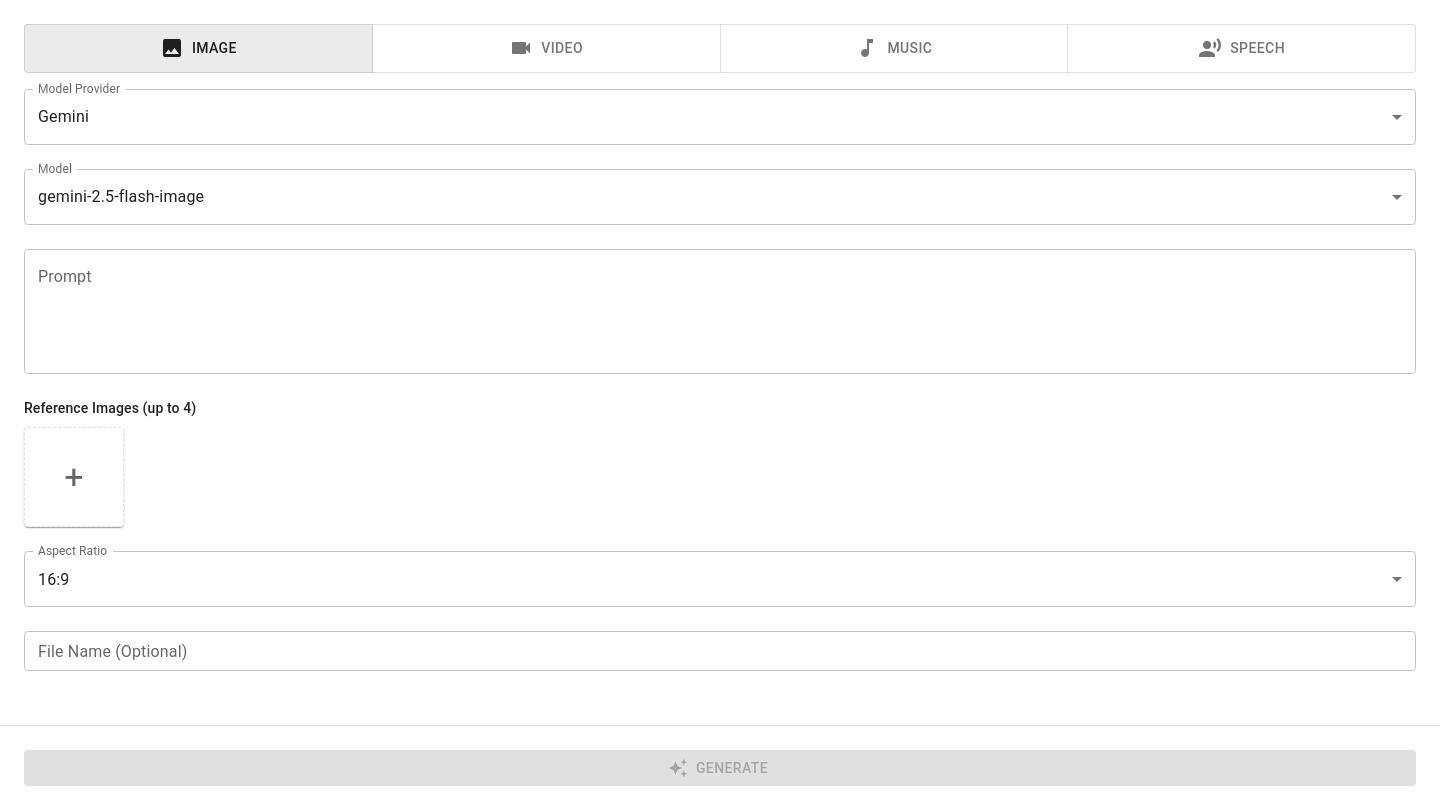
Test: GenerateInterface › should display an error message if generation fails
Step 1. Type "This will fail" into the text box labelled "Prompt" → (720, 311), box [38, 265, 1402, 357]
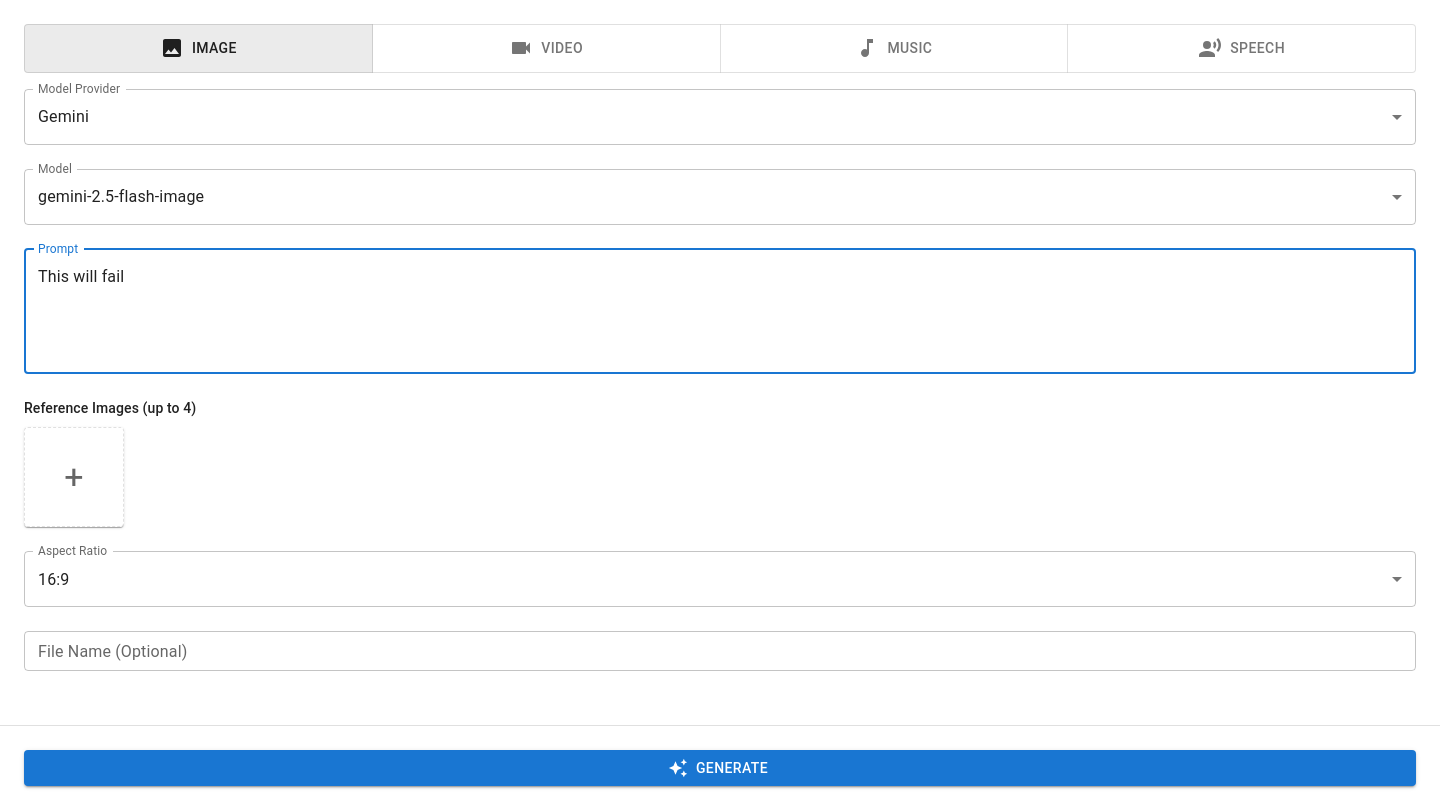
Step 2. Click the button "Generate" → (720, 768), box [24, 750, 1416, 786]
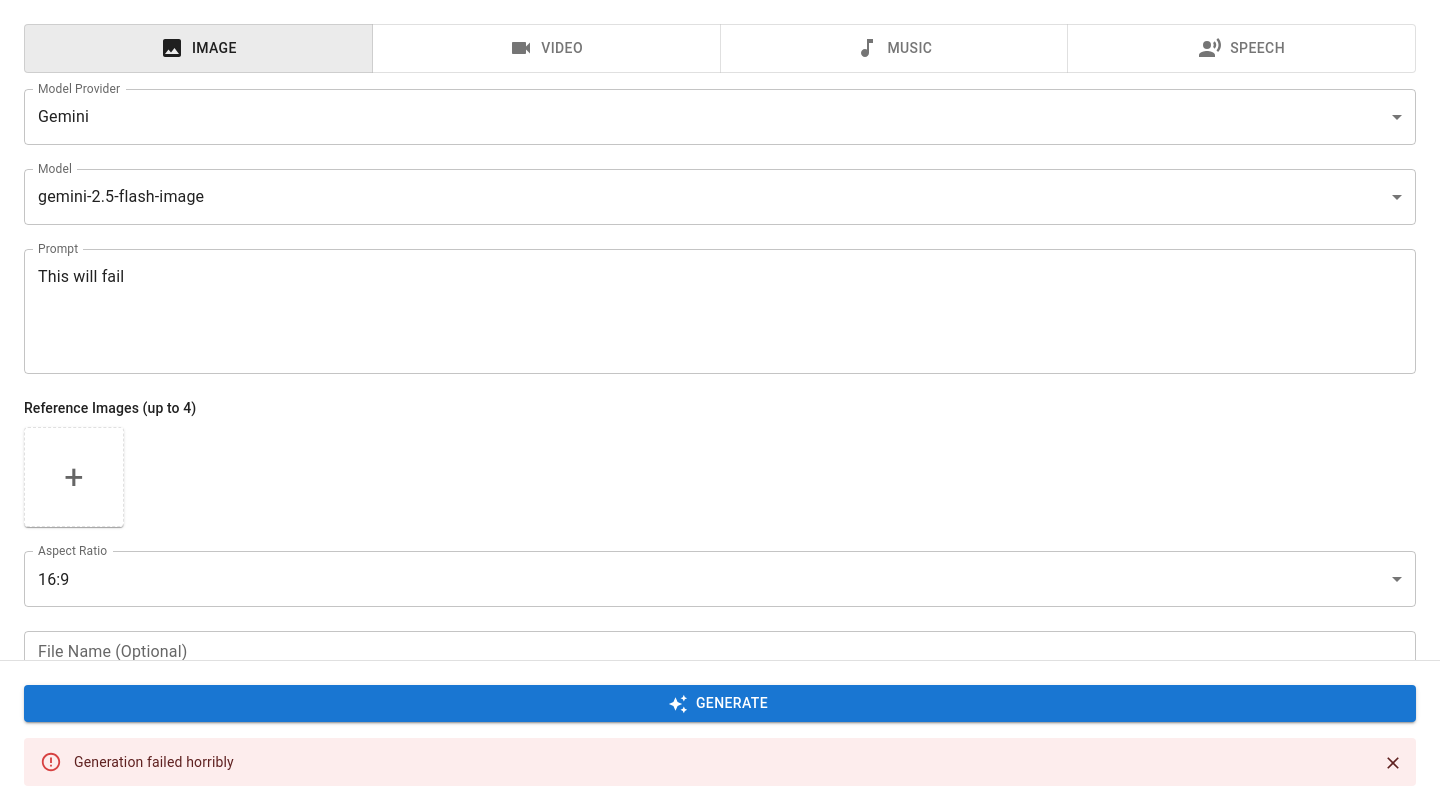
Expected: the message reads "Generation failed horribly", [74, 754, 234, 770]
